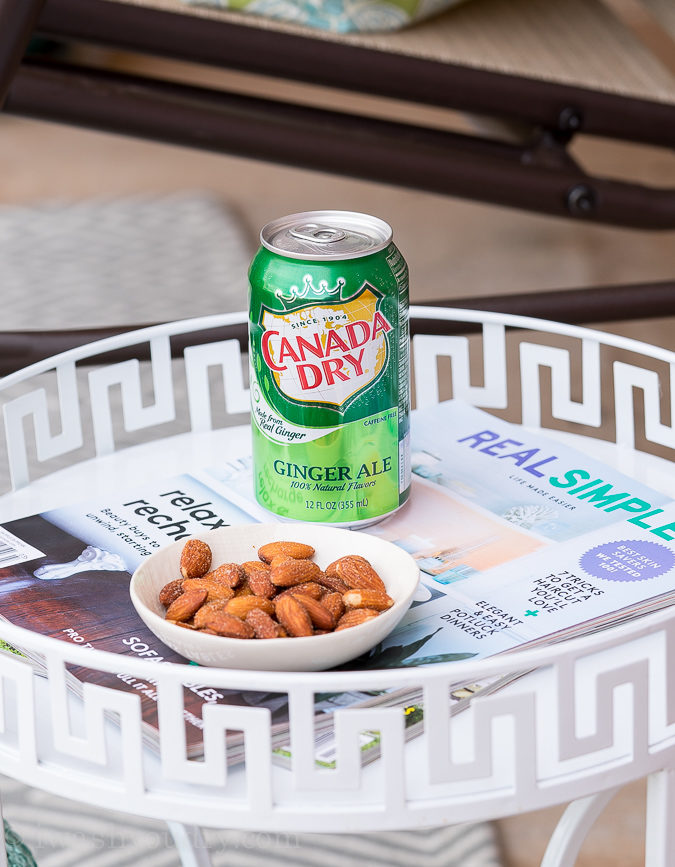Lata: (237, 197, 417, 533)
